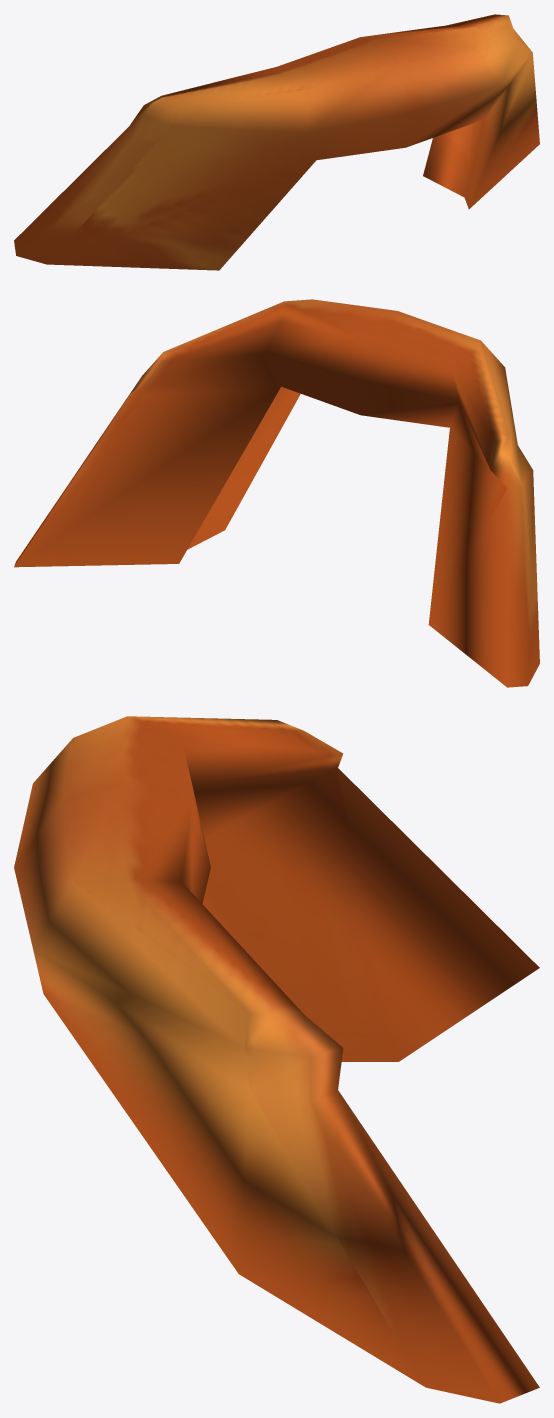
Rendered from hair_moustache_mesh.fbx.
The picture shows the model from 3 angles, top to bottom: view 1: azimuth 30°, elevation 25°; view 2: azimuth 150°, elevation 25°; view 3: azimuth 270°, elevation 25°; orthographic projection. The views are drawn at different scales.
Parts seen in each view (by area): view 1: hair_moustache_mesh; view 2: hair_moustache_mesh; view 3: hair_moustache_mesh.
Boxes of the visible parts, x1,y1,x2,y2 form: hair_moustache_mesh: (14,14,539,270); hair_moustache_mesh: (14,299,539,687); hair_moustache_mesh: (14,716,539,1403).
Bounding box in the file's own units: 9.48 × 4.12 × 4.84.
